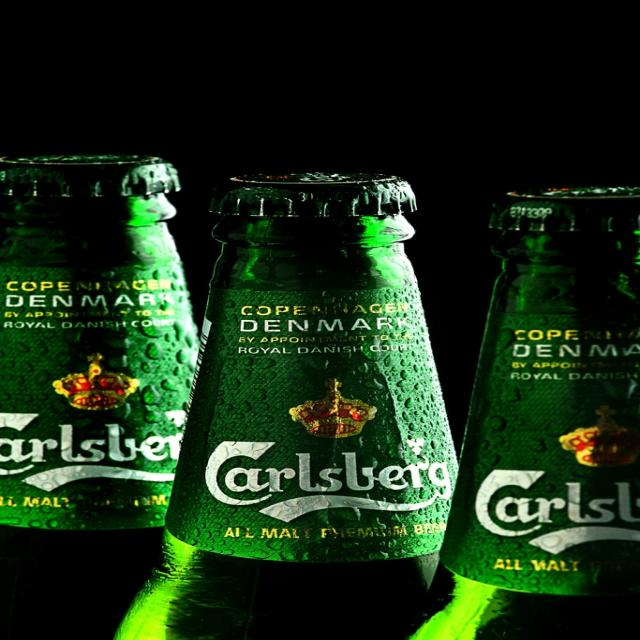carlsberg: (40, 373, 460, 522), (2, 351, 193, 495), (465, 402, 640, 558)
